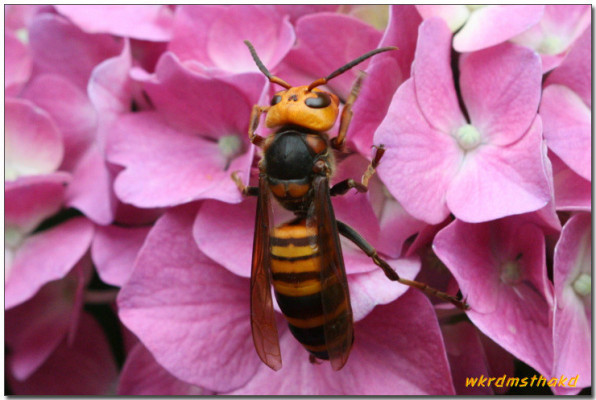asian_giant_hornet: (245, 44, 397, 371)
